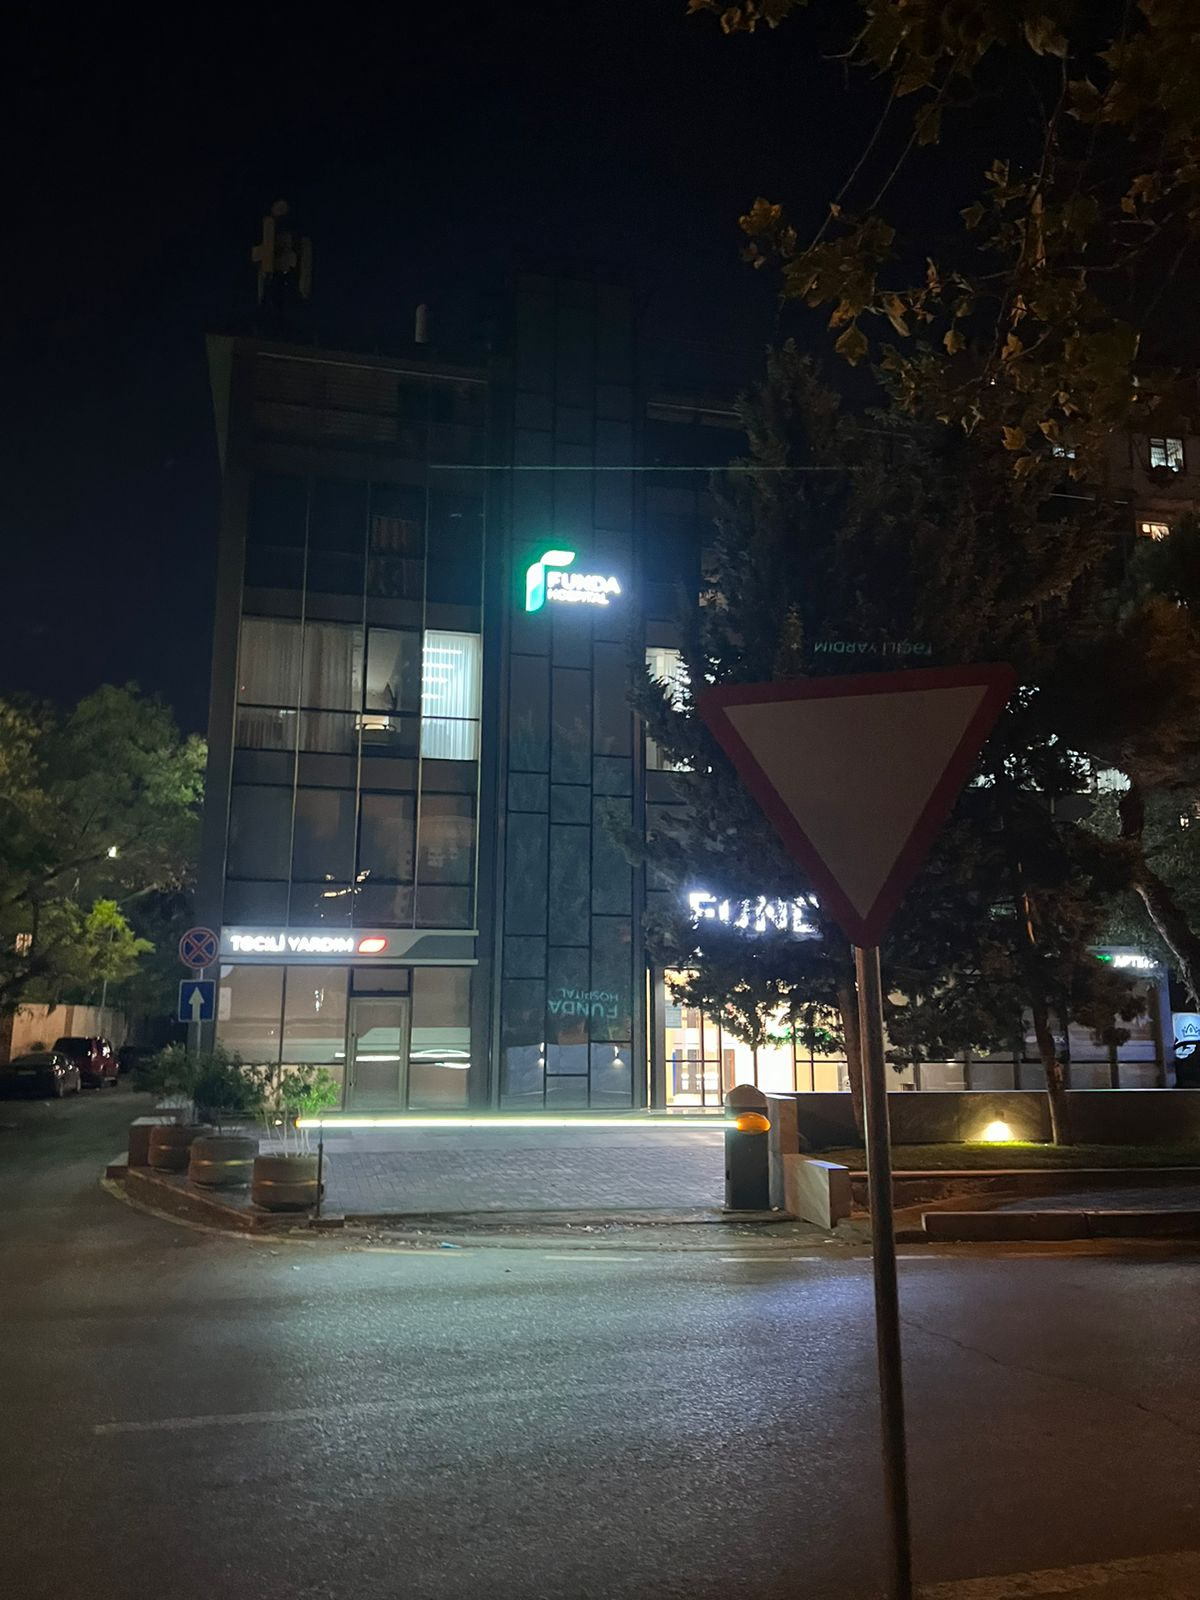Give Way: (698, 664, 1015, 950)
